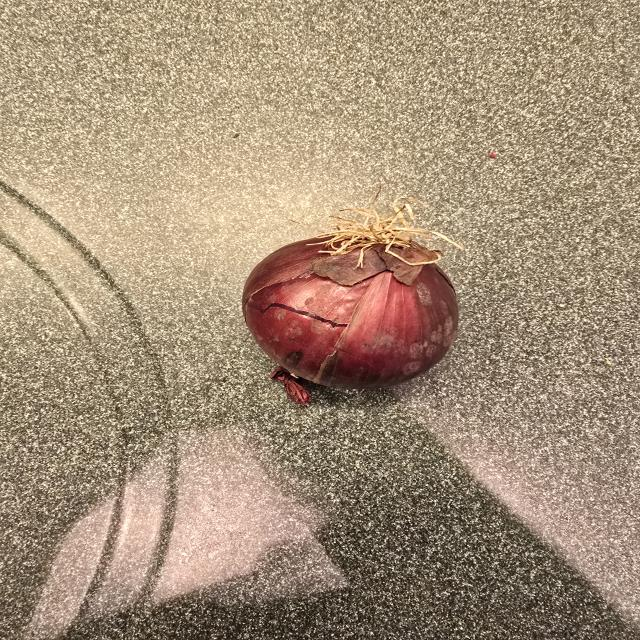Onion: (236, 223, 465, 397)
